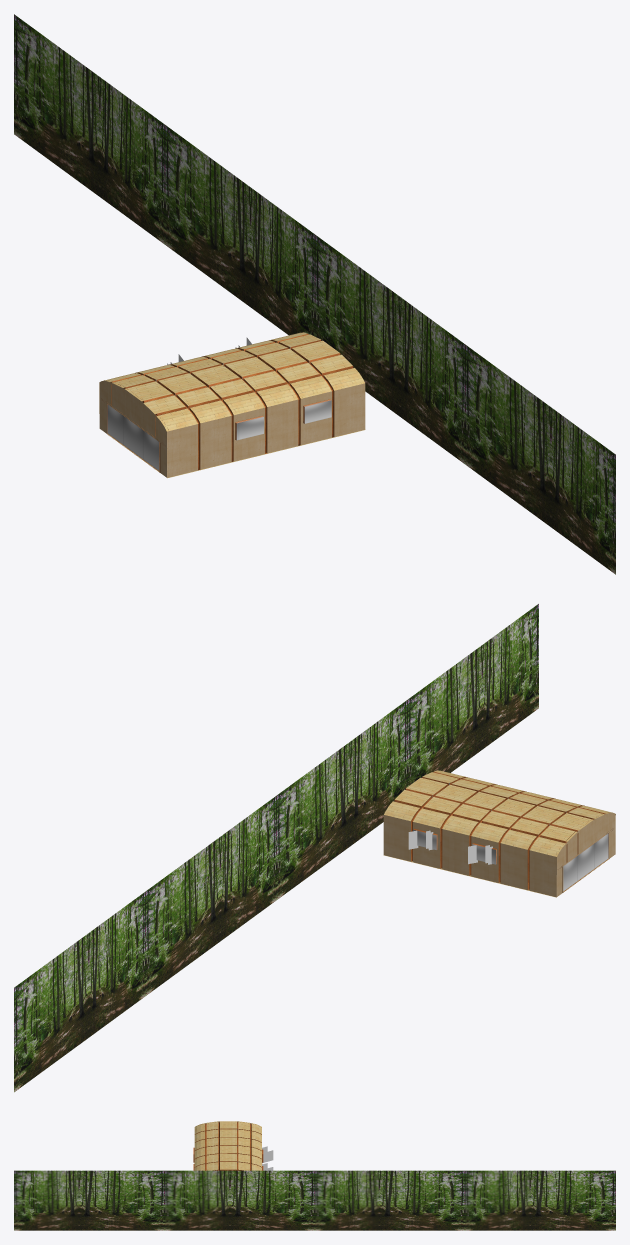
File: FitnessStudioForest.FBX
3 renders of one model, top to bottom at view 1: azimuth 30°, elevation 25°; view 2: azimuth 150°, elevation 25°; view 3: azimuth 270°, elevation 25°, orthographic. The views are drawn at different scales.
Parts seen in each view (by area): view 1: DEC_Walls, DEC_Mirror; view 2: DEC_Walls, DEC_Mirror; view 3: DEC_Walls.
Part boxes in pixels (x1,y1,x2,y2): DEC_Walls: (14, 14, 615, 574); DEC_Mirror: (107, 404, 159, 470); DEC_Walls: (14, 604, 615, 1092); DEC_Mirror: (563, 833, 608, 891); DEC_Walls: (14, 1121, 615, 1230).
Size of what is drawn, in the model's own units: 2631 by 10218 by 1125.
